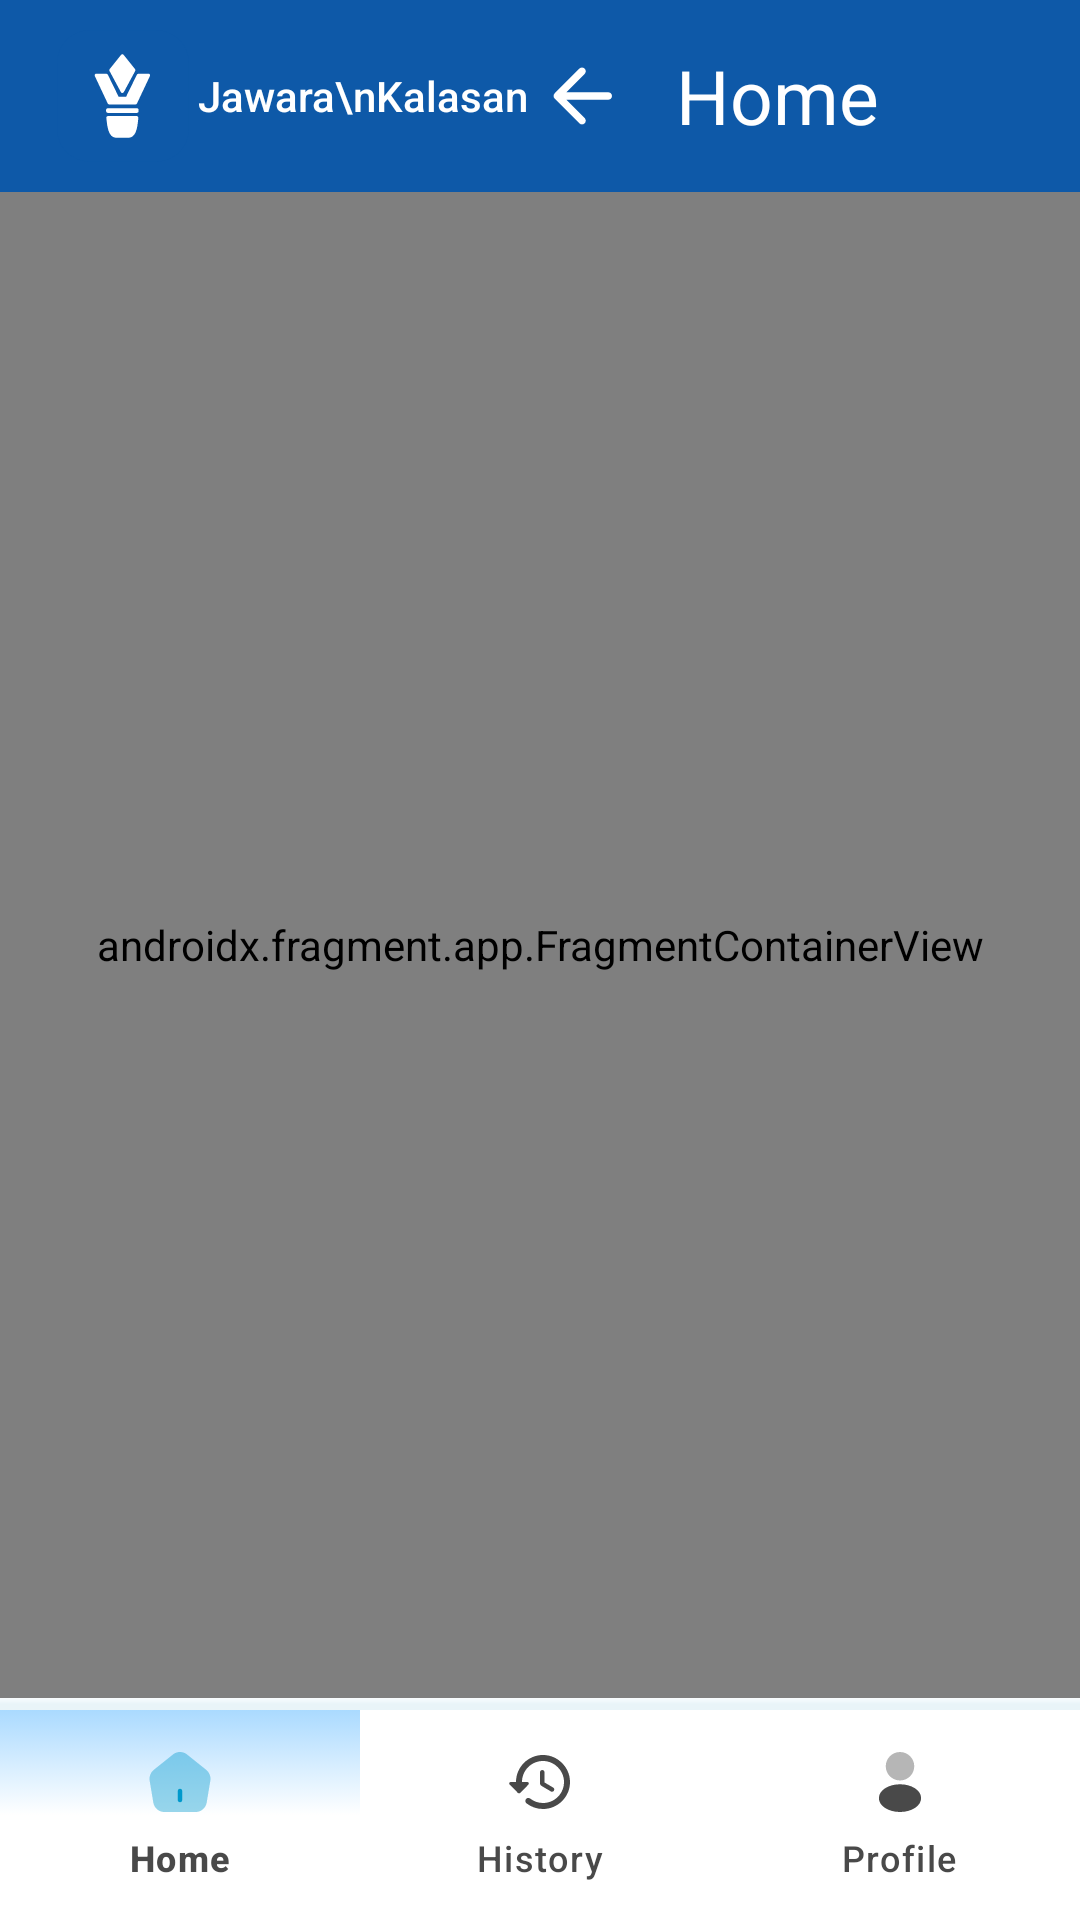

Named icons in this screenshot (1080px×1920px) and their centers, point (x, y):
arrow back: point (582, 96)
